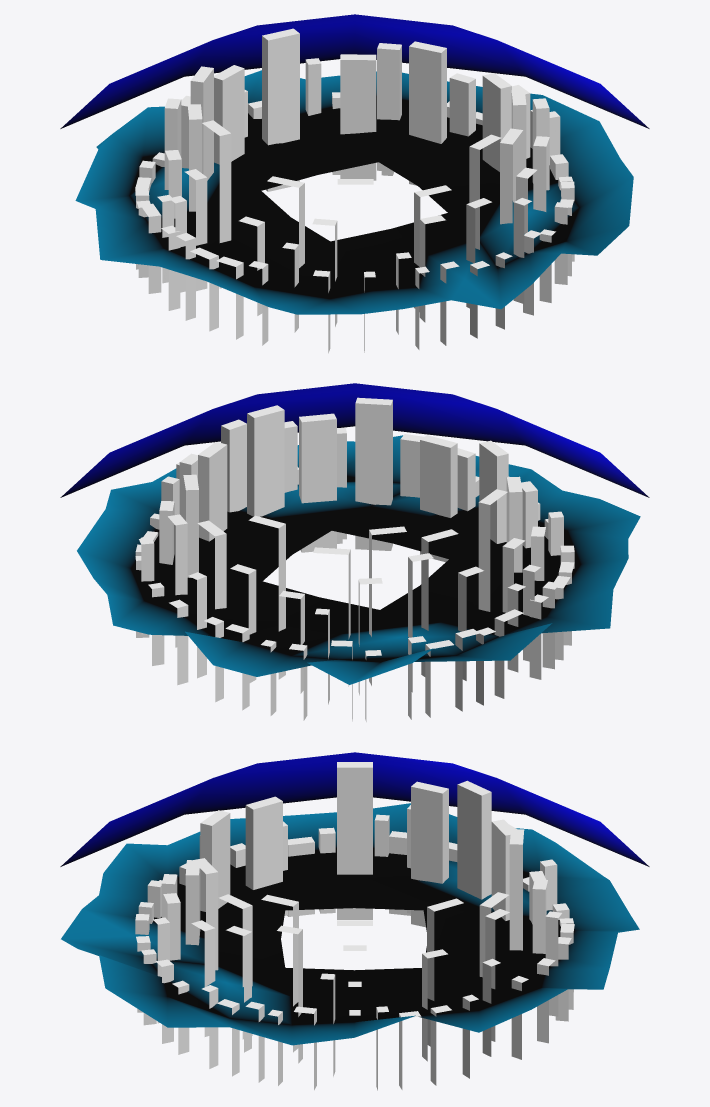
The model's file is SKY.glb.
The picture shows the model from 3 angles, top to bottom: view 1: azimuth 30°, elevation 25°; view 2: azimuth 150°, elevation 25°; view 3: azimuth 270°, elevation 25°; orthographic projection.
Parts seen in each view (by area): view 1: mount, bill_L, sky, bill_M, bill_SS, bill_S; view 2: mount, bill_L, sky, bill_M, bill_SS, bill_S; view 3: mount, bill_L, sky, bill_SS, bill_M, bill_S.
Boxes of the visible parts, x1,y1,x2,y2 form: mount: (75,70,633,314); bill_L: (187,28,526,311); sky: (60,14,649,128); bill_M: (164,43,549,326); bill_SS: (135,92,574,353); bill_S: (157,58,560,334); mount: (77,435,640,684); bill_L: (183,397,522,686); sky: (60,383,649,497); bill_M: (159,419,545,695); bill_SS: (135,467,574,721); bill_S: (139,462,563,704); mount: (61,803,639,1045); bill_L: (185,762,524,1052); sky: (60,752,649,866); bill_SS: (135,827,574,1090); bill_M: (161,805,547,1063); bill_S: (147,814,561,1076).
Size of the model in its own units: 1024 by 345 by 1024.
6 materials, 6 textured.
